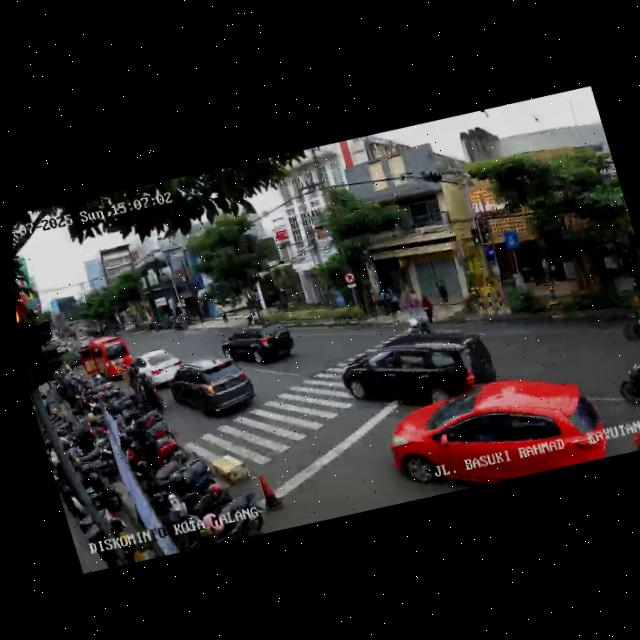car: (374, 354, 615, 508), (331, 313, 502, 419), (163, 347, 263, 429), (217, 313, 300, 376), (74, 330, 136, 386), (127, 344, 187, 391)
motorcycle: (606, 331, 640, 420), (607, 283, 640, 338)
person: (396, 282, 423, 327), (419, 292, 441, 327)
